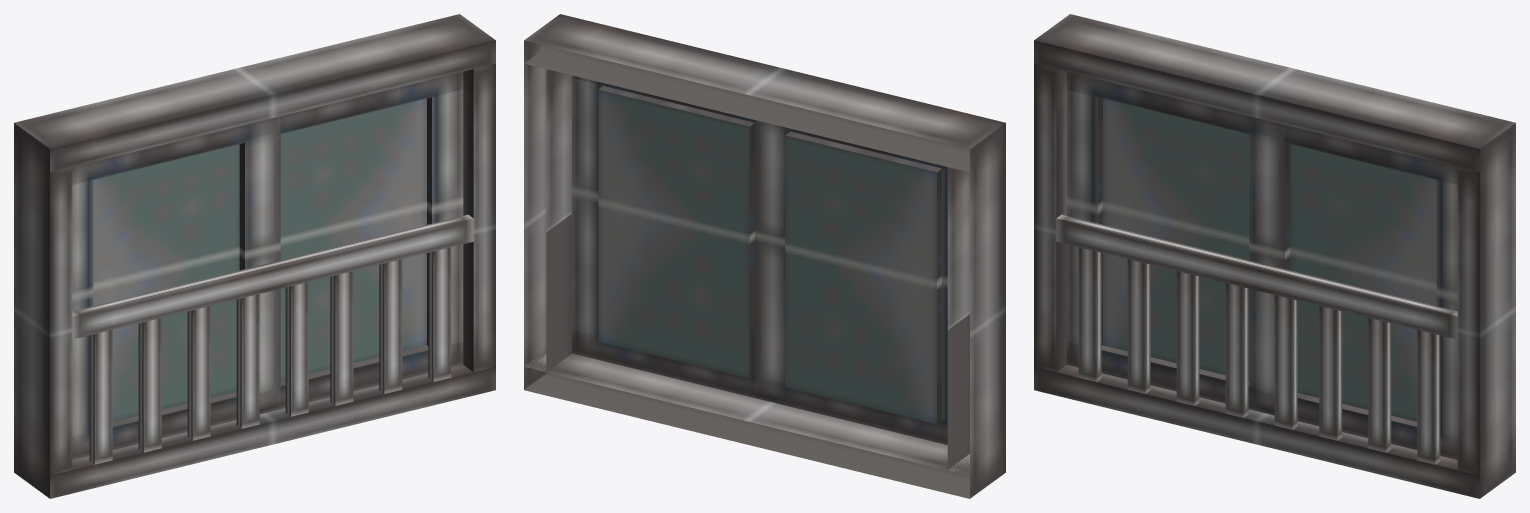
The model's file is Poly_SF_Outside_B_Window_05.obj.
3 renders of one model, left to right at view 1: azimuth 30°, elevation 25°; view 2: azimuth 150°, elevation 25°; view 3: azimuth 330°, elevation 25°, orthographic.
Parts seen in each view (by area): view 1: Cube.001, Cube.002, Cube.003; view 2: Cube.001, Cube.002; view 3: Cube.001, Cube.002, Cube.003.
Boxes of the visible parts, box(x1,y1,x2,y2) form: Cube.001: box(72, 72, 463, 459); Cube.002: box(14, 14, 495, 498); Cube.003: box(89, 247, 451, 464); Cube.001: box(572, 75, 947, 444); Cube.002: box(524, 14, 1005, 498); Cube.001: box(1066, 72, 1457, 459); Cube.002: box(1034, 14, 1515, 498); Cube.003: box(1078, 247, 1440, 464).
Size of the model in its own units: 1 by 0.75 by 0.14.
1 material, 1 textured.
